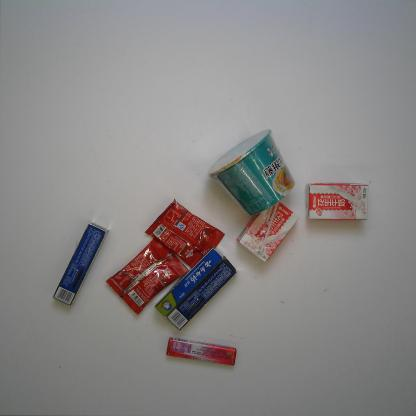Candy: (165, 336, 238, 367)
Instant Drink: (104, 234, 192, 315), (142, 198, 225, 272)
Instant Noodles: (206, 126, 298, 219)
Milk: (235, 195, 300, 263), (304, 180, 370, 222)
Personal Hygiene: (166, 255, 237, 332), (154, 244, 223, 320), (52, 219, 109, 310)
